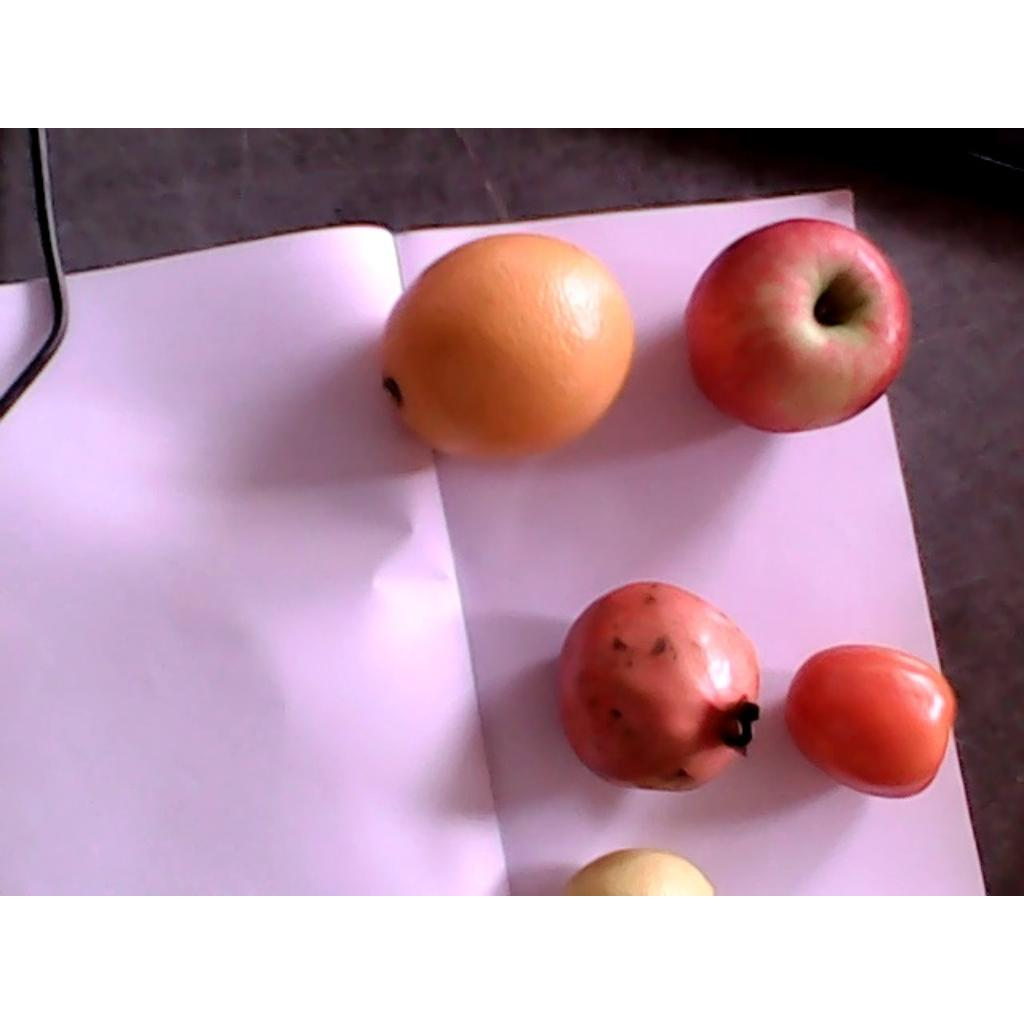apple: (683, 220, 910, 433)
lemon: (563, 851, 714, 894)
orange: (380, 234, 637, 461)
pomegranate: (552, 581, 762, 794)
tomato: (785, 645, 959, 796)
